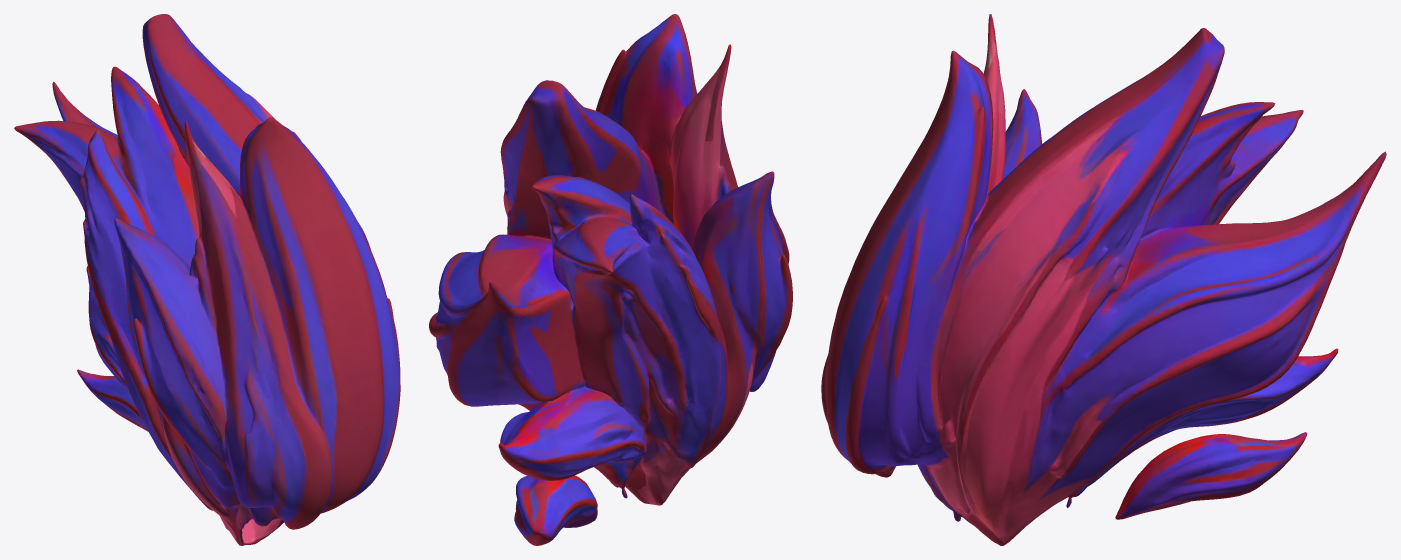
The model's file is E002YamarashiiHair.glb.
3 renders of one model, left to right at view 1: azimuth 30°, elevation 25°; view 2: azimuth 150°, elevation 25°; view 3: azimuth 270°, elevation 25°, orthographic. The views are drawn at different scales.
Visible parts, largest first — view 1: tripo_node_1d64ff73-76ed-46bb-a03f-a1ef0ecb9074; view 2: tripo_node_1d64ff73-76ed-46bb-a03f-a1ef0ecb9074; view 3: tripo_node_1d64ff73-76ed-46bb-a03f-a1ef0ecb9074.
Part boxes in pixels (x1,y1,x2,y2): tripo_node_1d64ff73-76ed-46bb-a03f-a1ef0ecb9074: (14, 14, 400, 545); tripo_node_1d64ff73-76ed-46bb-a03f-a1ef0ecb9074: (429, 14, 792, 545); tripo_node_1d64ff73-76ed-46bb-a03f-a1ef0ecb9074: (821, 14, 1386, 545).
Bounding box in the file's own units: 0.5122 × 0.9383 × 0.9367.
1 material, 1 textured.
